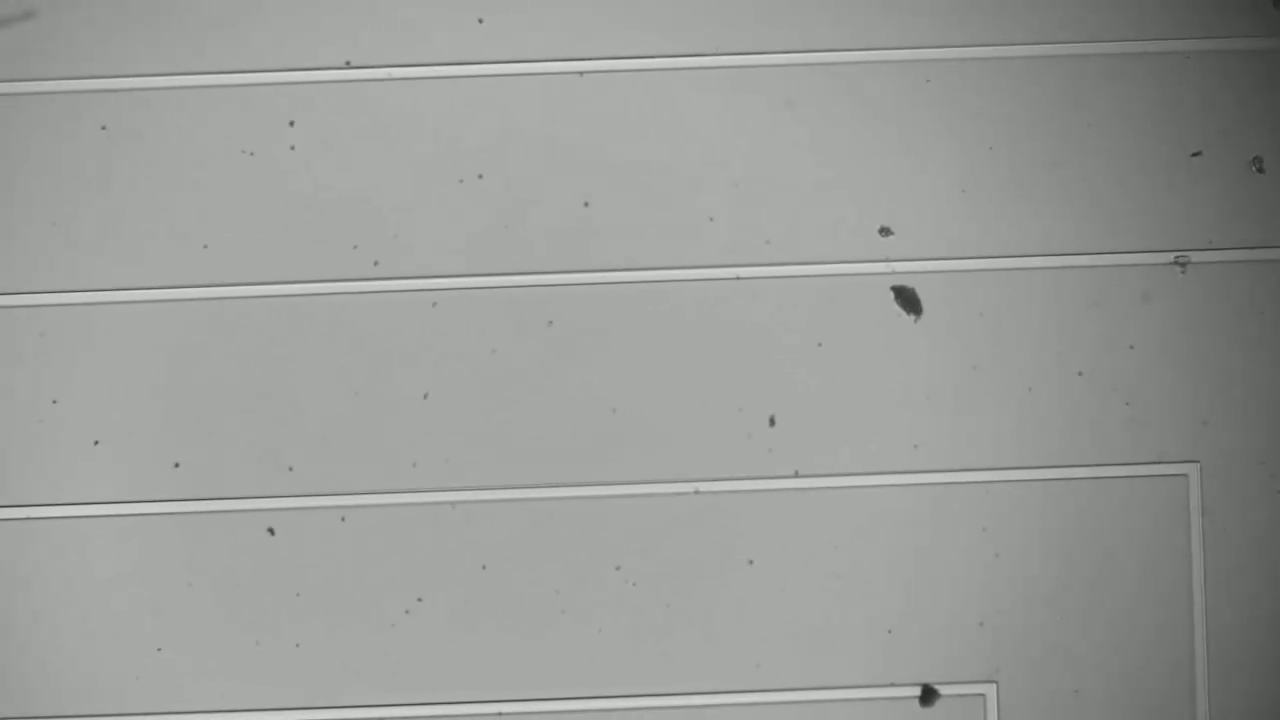stains_enbedded: (910, 673, 949, 718), (1164, 237, 1200, 278)
